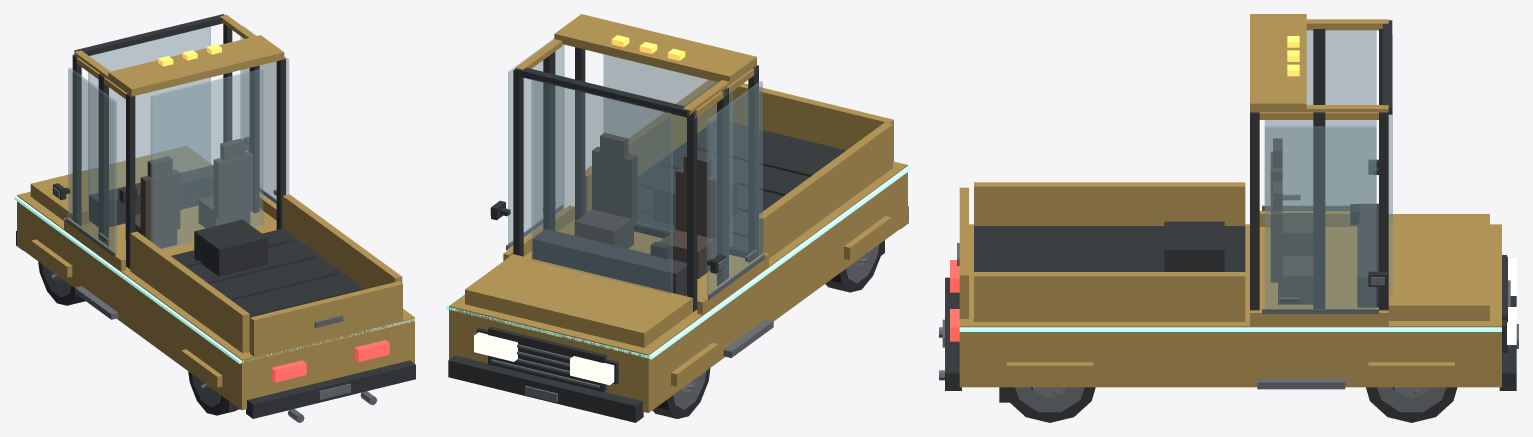
The model's file is pickup_truck.glb.
3 views of the same model, side by side, from view 1: azimuth 30°, elevation 25°; view 2: azimuth 150°, elevation 25°; view 3: azimuth 270°, elevation 25° (orthographic). The views are drawn at different scales.
Parts seen in each view (by area): view 1: PickupTruck_Hull, PickupTruck_GlassR, PickupTruck_GlassF, PickupTruck_GlassSideL, PickupTruck_Tailgate, PickupTruck_BedFloor, PickupTruck_BedRailL, PickupTruck_Roof, PickupTruck_BedRailR, PickupTruck_GlassSideR, PickupTruck_Hood, PickupTruck_BumperR (+29 smaller); view 2: PickupTruck_GlassF, PickupTruck_Hull, PickupTruck_Hood, PickupTruck_GlassR, PickupTruck_GlassSideL, PickupTruck_BedFloor, PickupTruck_BedRailL, PickupTruck_Roof, PickupTruck_GlassSideR, PickupTruck_Tailgate, PickupTruck_Dash, PickupTruck_BumperF (+32 smaller); view 3: PickupTruck_Hull, PickupTruck_GlassSideR, PickupTruck_BedRailR, PickupTruck_GlassSideL, PickupTruck_BedRailL, PickupTruck_Hood, PickupTruck_BedFloor, PickupTruck_Roof, PickupTruck_Crate, PickupTruck_Lip, PickupTruck_PillarBR, PickupTruck_Dash (+24 smaller).
Boxes of the visible parts, x1=… form: PickupTruck_Hull: x1=17, y1=191, x2=414, y2=410; PickupTruck_GlassR: x1=150, y1=69, x2=263, y2=250; PickupTruck_GlassF: x1=88, y1=26, x2=210, y2=208; PickupTruck_GlassSideL: x1=68, y1=67, x2=116, y2=253; PickupTruck_Tailgate: x1=250, y1=281, x2=402, y2=356; PickupTruck_BedFloor: x1=171, y1=228, x2=365, y2=351; PickupTruck_BedRailL: x1=130, y1=231, x2=249, y2=353; PickupTruck_Roof: x1=108, y1=35, x2=284, y2=96; PickupTruck_BedRailR: x1=282, y1=194, x2=402, y2=288; PickupTruck_GlassSideR: x1=240, y1=25, x2=289, y2=204; PickupTruck_Hood: x1=30, y1=146, x2=211, y2=224; PickupTruck_BumperR: x1=246, y1=360, x2=415, y2=418; PickupTruck_GlassF: x1=531, y1=79, x2=672, y2=293; PickupTruck_Hull: x1=449, y1=161, x2=907, y2=412; PickupTruck_Hood: x1=465, y1=254, x2=692, y2=347; PickupTruck_GlassR: x1=603, y1=54, x2=732, y2=245; PickupTruck_GlassSideL: x1=706, y1=81, x2=762, y2=295; PickupTruck_BedFloor: x1=634, y1=120, x2=845, y2=258; PickupTruck_BedRailL: x1=759, y1=122, x2=892, y2=258; PickupTruck_Roof: x1=554, y1=14, x2=756, y2=84; PickupTruck_GlassSideR: x1=508, y1=38, x2=564, y2=247; PickupTruck_Tailgate: x1=717, y1=82, x2=893, y2=161; PickupTruck_Dash: x1=532, y1=229, x2=686, y2=295; PickupTruck_BumperF: x1=448, y1=355, x2=643, y2=422; PickupTruck_Hull: x1=959, y1=224, x2=1501, y2=387; PickupTruck_GlassSideR: x1=1264, y1=126, x2=1376, y2=308; PickupTruck_BedRailR: x1=974, y1=272, x2=1245, y2=321; PickupTruck_GlassSideL: x1=1264, y1=30, x2=1376, y2=209; PickupTruck_BedRailL: x1=974, y1=182, x2=1245, y2=225; PickupTruck_Hood: x1=1388, y1=214, x2=1489, y2=320; PickupTruck_BedFloor: x1=974, y1=226, x2=1245, y2=271; PickupTruck_Roof: x1=1250, y1=14, x2=1306, y2=112; PickupTruck_Crate: x1=1164, y1=221, x2=1224, y2=271; PickupTruck_Lip: x1=959, y1=223, x2=1501, y2=331; PickupTruck_PillarBR: x1=1313, y1=112, x2=1325, y2=308; PickupTruck_Dash: x1=1357, y1=203, x2=1378, y2=307.
Size of the model in its own units: 2.29 by 2.93 by 4.81.
